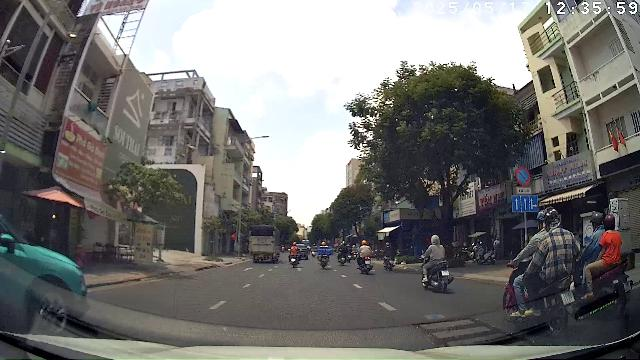131a-cam-do-xe: (515, 167, 531, 186)
